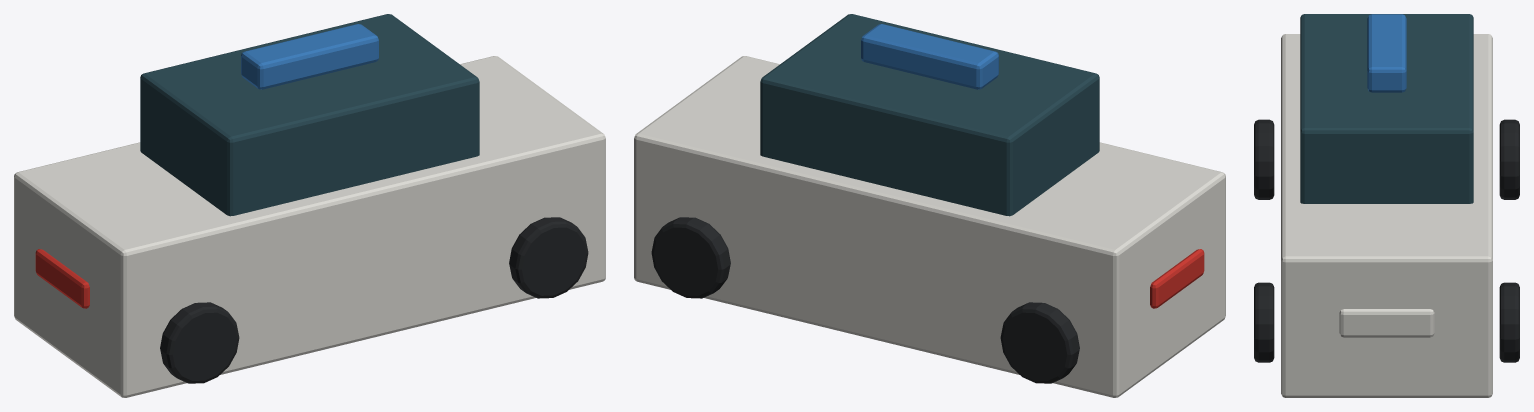
The model's file is Vehicle_008.glb.
3 renders of one model, left to right at view 1: azimuth 30°, elevation 25°; view 2: azimuth 150°, elevation 25°; view 3: azimuth 270°, elevation 25°, orthographic. The views are drawn at different scales.
Parts seen in each view (by area): view 1: Vehicle_008; view 2: Vehicle_008; view 3: Vehicle_008.
Part boxes in pixels (x1=…): Vehicle_008: x1=14, y1=14, x2=605, y2=397; Vehicle_008: x1=634, y1=14, x2=1225, y2=397; Vehicle_008: x1=1254, y1=14, x2=1519, y2=397.
Bounding box in the file's own units: 4.98 × 2.44 × 2.38.
